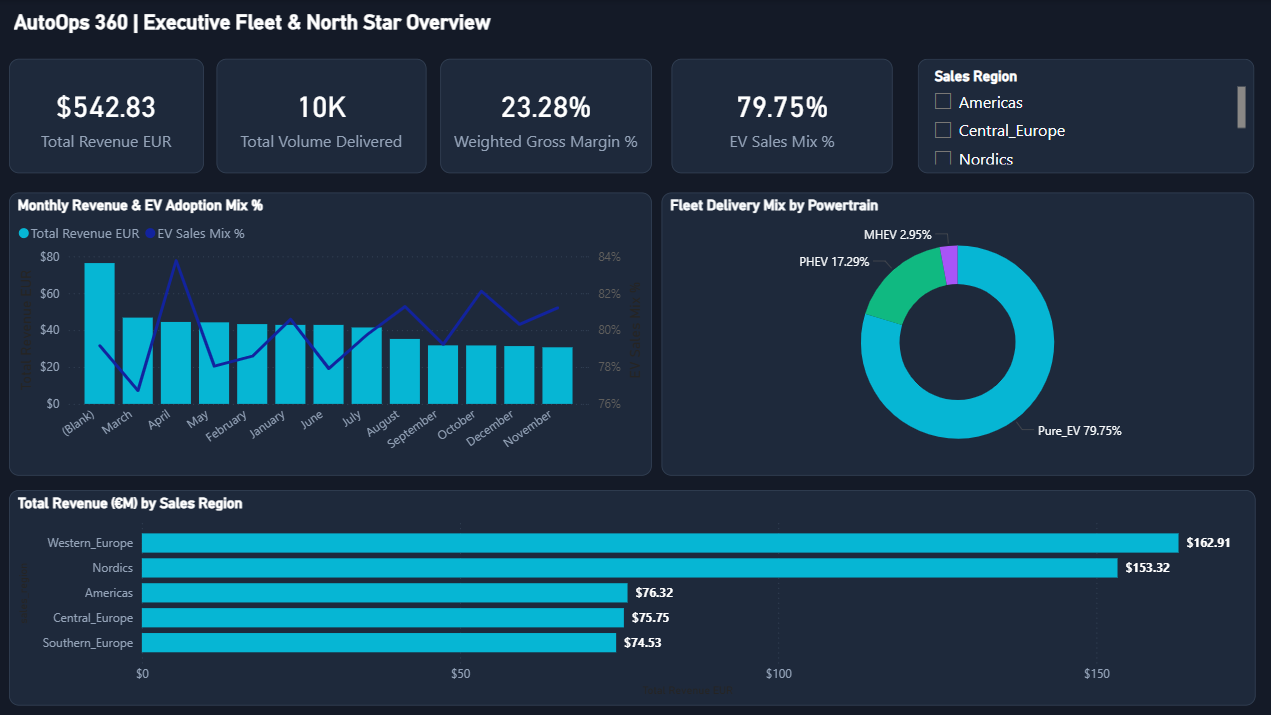

The page's visual inventory and layout, read from the dashboard file:
{"tool":"powerbi","page":{"name":"Page 1","canvas":[1280,720],"ordinal":0},"visuals":[{"type":"card","fields":{"Values":["dim_dates.Total Revenue EUR"]},"box":[9.9,59.2,195.8,115.5],"z":0},{"type":"card","fields":{"Values":["dim_dates.Total Volume Delivered"]},"box":[218.3,59.2,211.3,115.5],"z":1000},{"type":"card","fields":{"Values":["dim_dates.Weighted Gross Margin %"]},"box":[443.7,59.2,212.7,115.5],"z":2000},{"type":"card","fields":{"Values":["dim_dates.EV Sales Mix %"]},"box":[676.1,59.2,222.5,115.5],"z":3000},{"type":"slicer","fields":{"Values":["dim_geography.sales_region"]},"box":[923.9,59.2,338,115.5],"z":4000},{"type":"lineStackedColumnComboChart","title":"Monthly Revenue & EV Adoption Mix %","fields":{"Category":["dim_dates.month_name"],"Y":["dim_dates.Total Revenue EUR"],"Y2":["dim_dates.EV Sales Mix %"]},"box":[9.9,193,646.5,284.5],"z":5000},{"type":"clusteredBarChart","title":"Total Revenue (€M) by Sales Region","fields":{"Category":["dim_geography.sales_region"],"Y":["dim_dates.Total Revenue EUR"]},"box":[9.9,493,1253.5,216.9],"z":6000},{"type":"donutChart","title":"Fleet Delivery Mix by Powertrain","fields":{"Category":["dim_vehicles.powertrain_type"],"Y":["dim_dates.Total Volume Delivered"]},"box":[666.2,193,595.8,284.5],"z":7000},{"type":"textbox","title":"AutoOps 360 | Executive Fleet & North Star Overview","box":[9.9,9.9,666.2,31],"z":7001}]}

Visuals, with their boxes in screenshot pixels (x1, y1, x2, y2), scaled from the page's 1280x720 canvas onto the 1271x715 screenshot:
card - dim_dates.Total Revenue EUR: box=[10, 59, 204, 173]
card - dim_dates.Total Volume Delivered: box=[217, 59, 427, 173]
card - dim_dates.Weighted Gross Margin %: box=[441, 59, 652, 173]
card - dim_dates.EV Sales Mix %: box=[671, 59, 892, 173]
slicer - dim_geography.sales_region: box=[917, 59, 1253, 173]
"Monthly Revenue & EV Adoption Mix %" lineStackedColumnComboChart: box=[10, 192, 652, 474]
"Total Revenue (€M) by Sales Region" clusteredBarChart: box=[10, 490, 1255, 705]
"Fleet Delivery Mix by Powertrain" donutChart: box=[662, 192, 1253, 474]
"AutoOps 360 | Executive Fleet & North Star Overview" textbox: box=[10, 10, 671, 41]
